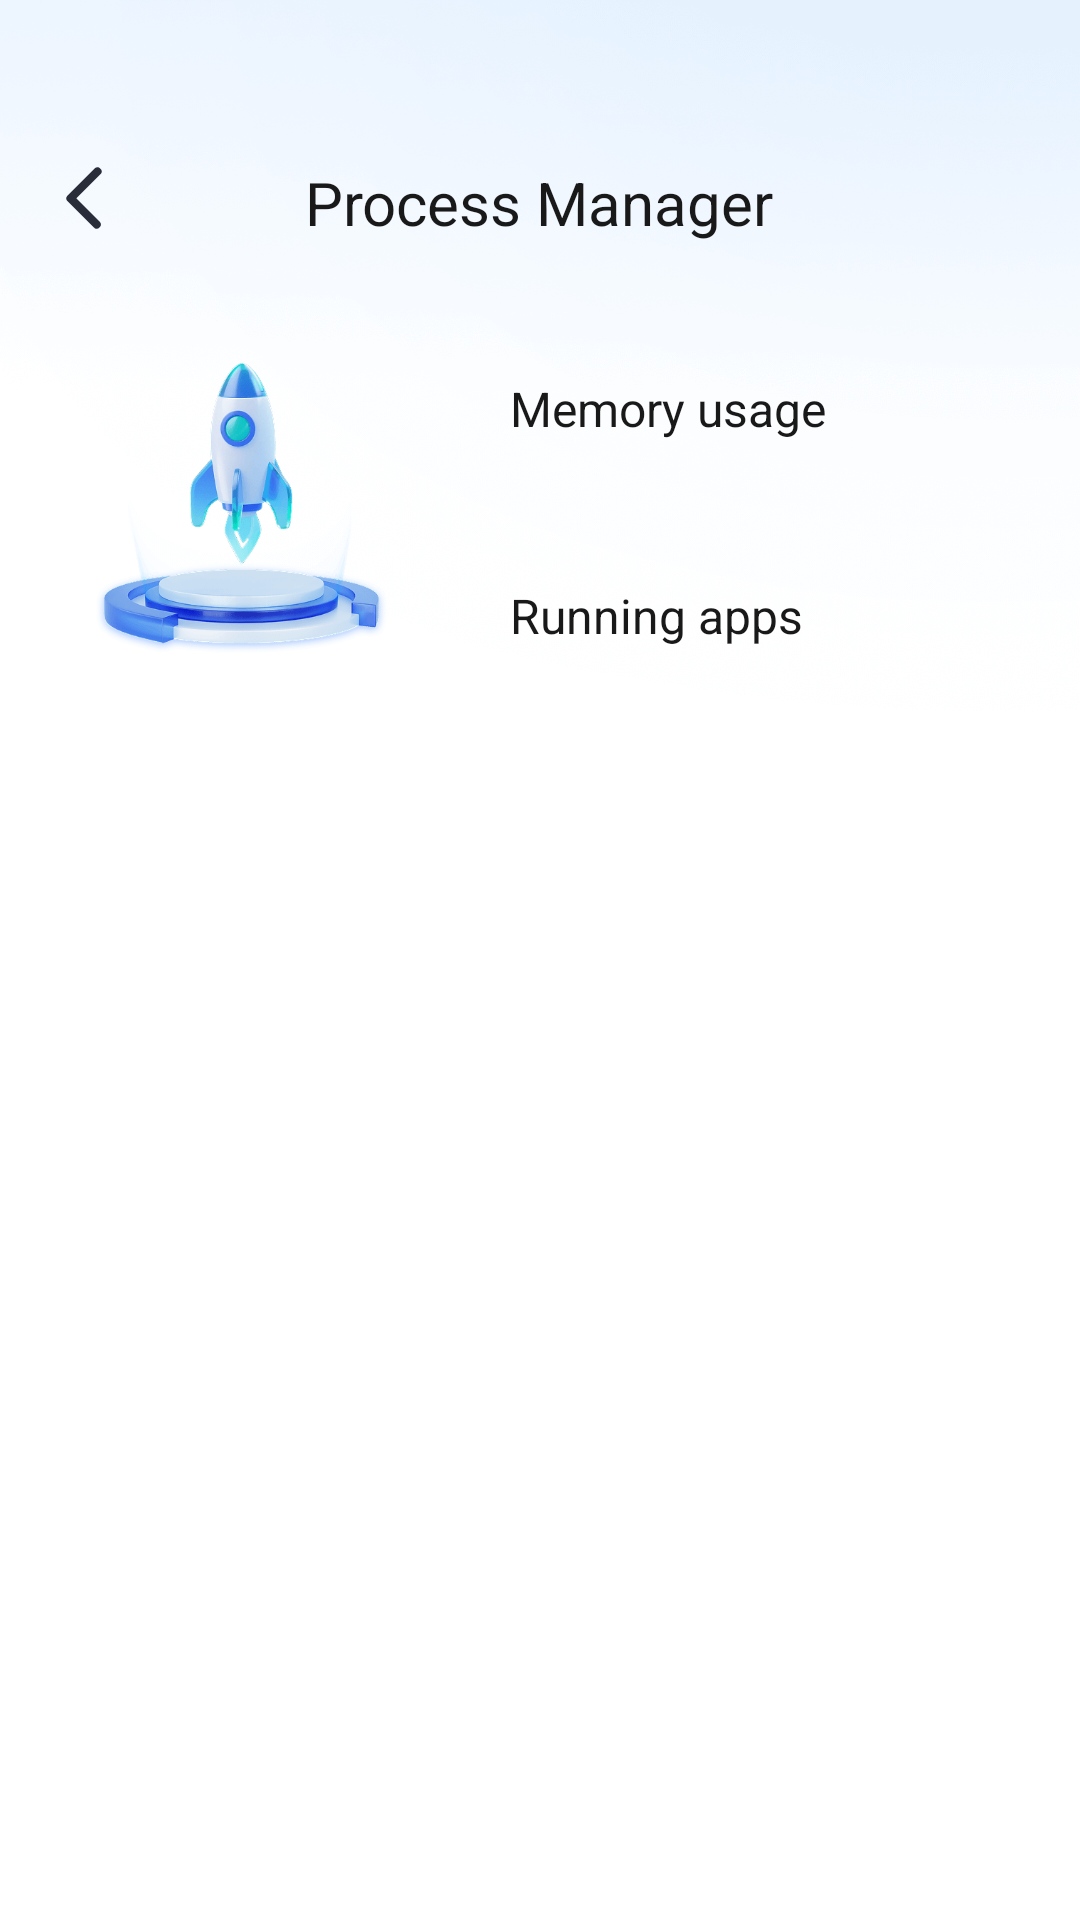

Screen size 1080 × 1920. Icon name, then its box in pixels as (x1, y1, x2, y2):
back: (66, 167, 102, 229)
